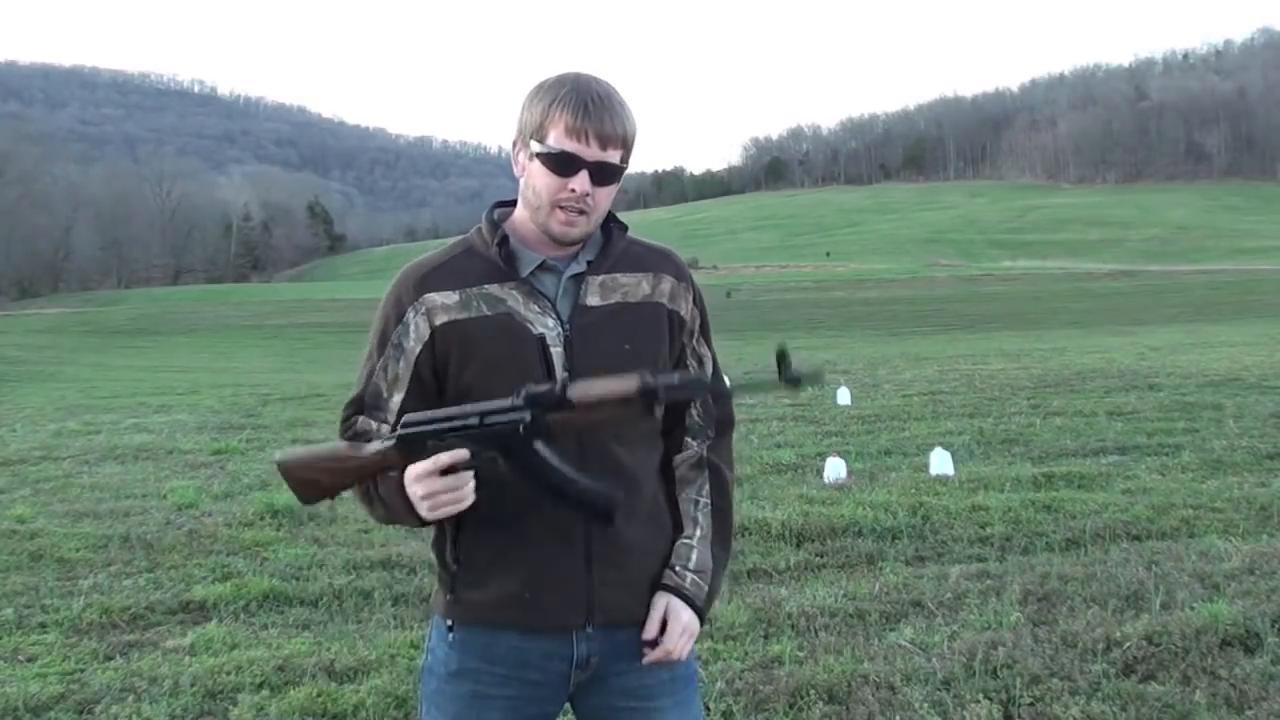AK47 Rifle: (275, 341, 829, 513)
